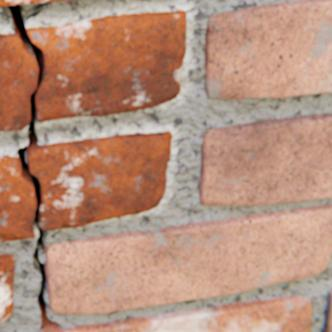brick: (46, 203, 331, 312), (204, 0, 331, 99), (198, 113, 331, 205), (37, 294, 310, 331), (0, 253, 14, 321), (321, 289, 331, 331), (0, 0, 69, 6)
broken_brick: (26, 10, 185, 121), (27, 131, 171, 229), (0, 33, 38, 130), (0, 154, 36, 241)
crack: (0, 2, 60, 329)
